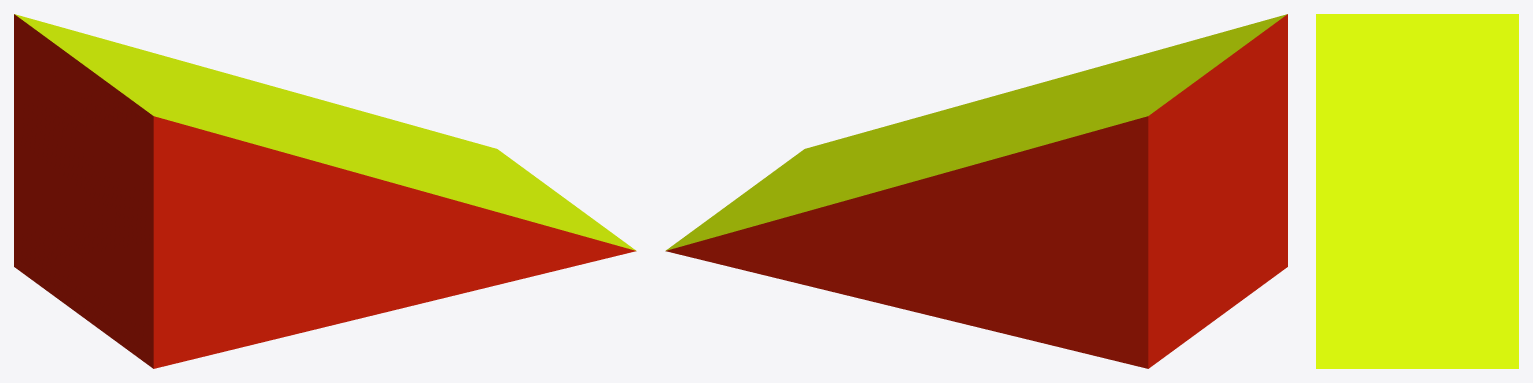
Rendered from SM_2x4Rampe.FBX.
The picture shows the model from 3 angles, left to right: view 1: azimuth 30°, elevation 25°; view 2: azimuth 150°, elevation 25°; view 3: azimuth 270°, elevation 25°; orthographic projection. The views are drawn at different scales.
Parts seen in each view (by area): view 1: Plane001; view 2: Plane001; view 3: Plane001.
Part boxes in pixels (x1,y1,x2,y2): Plane001: (14,14,636,368); Plane001: (665,14,1287,368); Plane001: (1316,14,1518,368).
Bounding box in the file's own units: 400 × 200 × 200.
